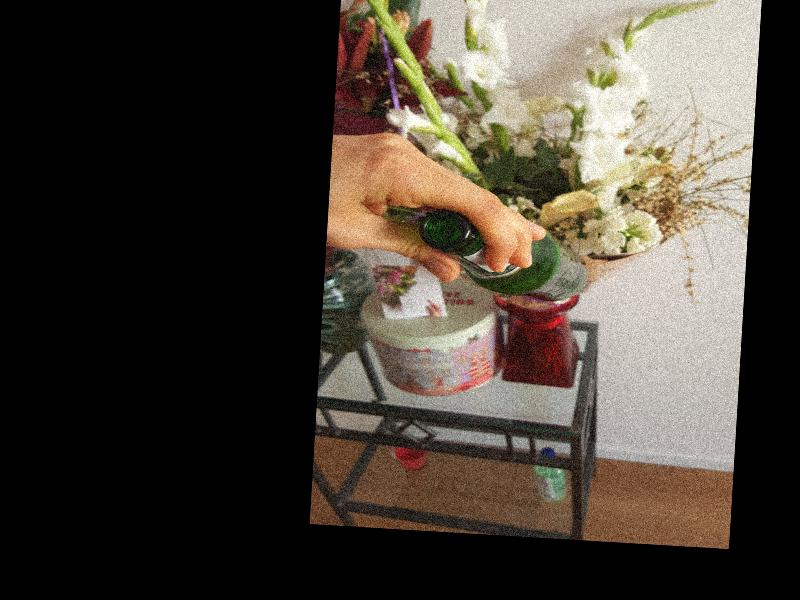Beer: (416, 209, 591, 304)
